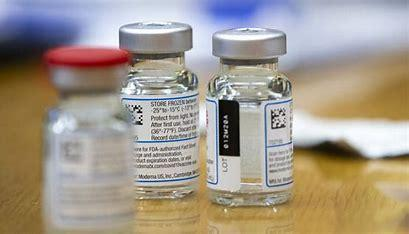Syringe: (32, 43, 142, 232), (203, 21, 299, 212), (110, 15, 202, 205)
